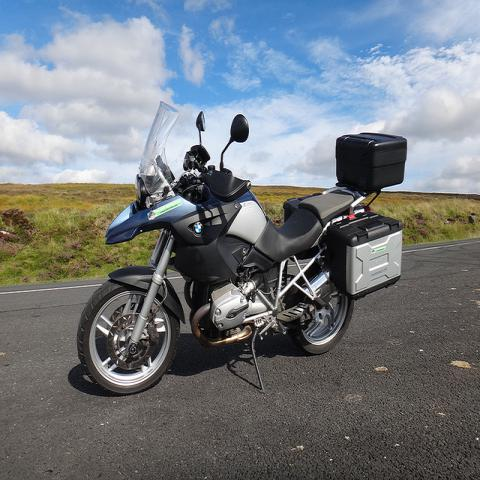motorcycle: (71, 97, 413, 397)
